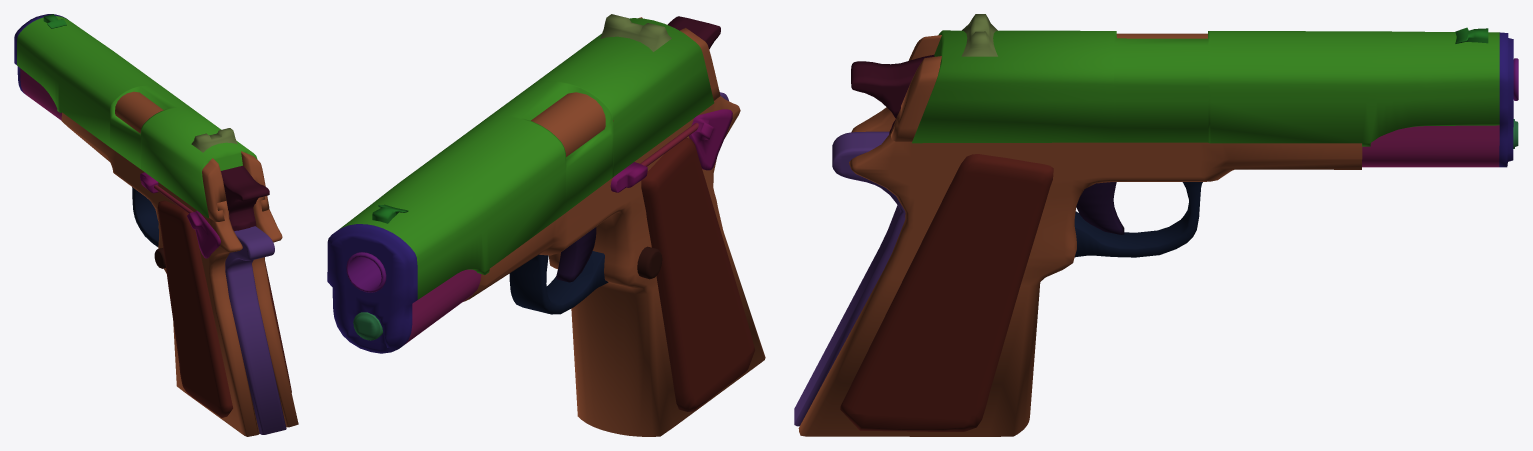
File: Dx01_1_pistol_m1911_transformF_static_export.fbx
3 renders of one model, left to right at view 1: azimuth 30°, elevation 25°; view 2: azimuth 150°, elevation 25°; view 3: azimuth 270°, elevation 25°, orthographic. The views are drawn at different scales.
Visible parts, largest first — view 1: d01_grip_low; view 2: d01_grip_low; view 3: d01_grip_low.
Part boxes in pixels (box(x1,y1,x2,y2)): d01_grip_low: box(14, 14, 298, 436); d01_grip_low: box(327, 14, 765, 436); d01_grip_low: box(794, 14, 1518, 436).
Bounding box in the file's own units: 33.78 × 116 × 195.
